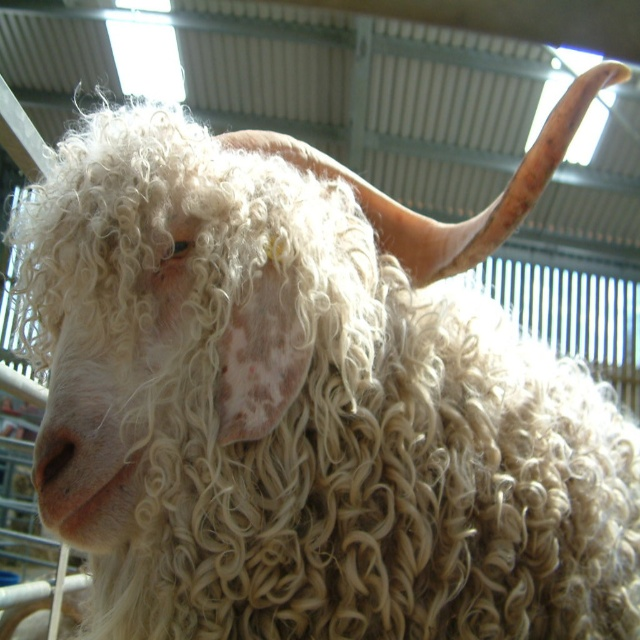Sheep: (25, 63, 640, 615)
